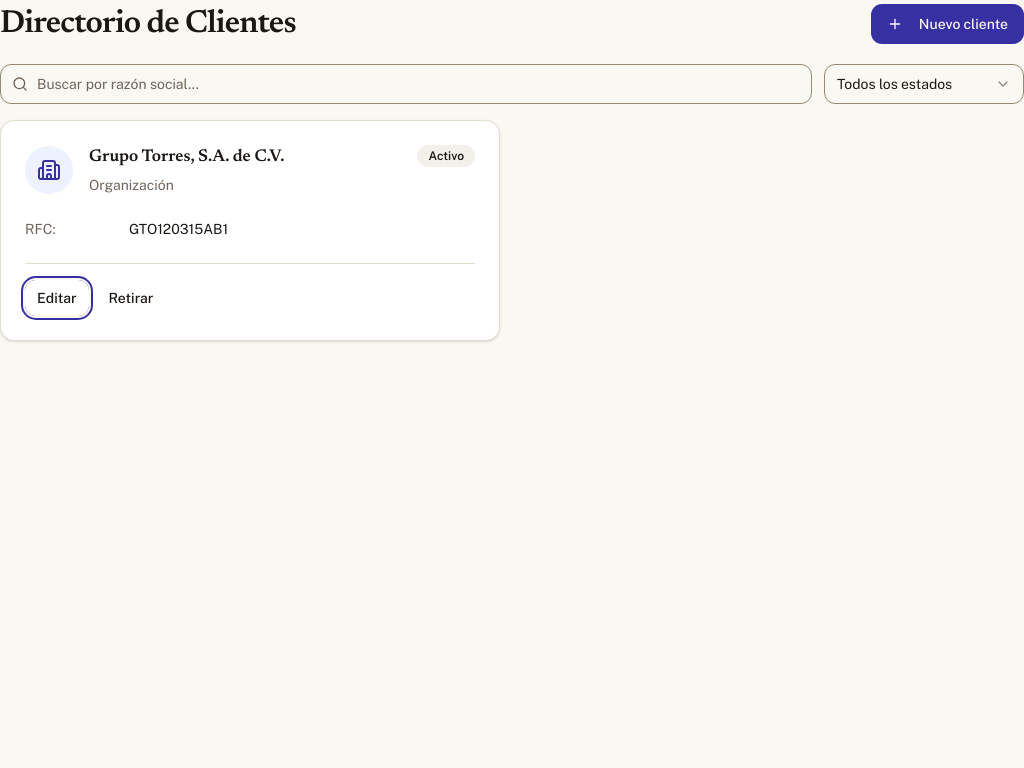
Scenario: dialogs keep and return focus › returns focus to the row control that opened the edit dialog
This screenshot has width=1024, height=768.
Expected: the heading "Grupo Torres, S.A. de C.V." is shown, top-left (89, 145), bottom-right (284, 170)
Click the button with aria-label "editar grupo torres" at (57, 298), box top-left (25, 280), bottom-right (88, 316)
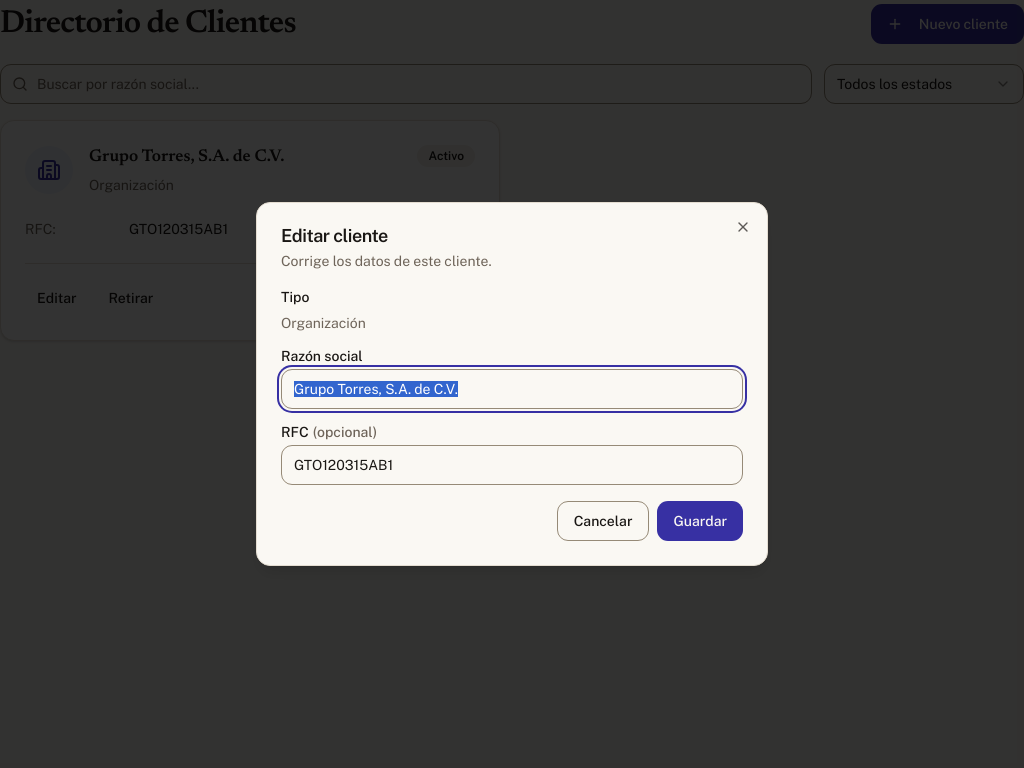
Expected: the dialog is shown, top-left (256, 202), bottom-right (768, 566)
Press Escape
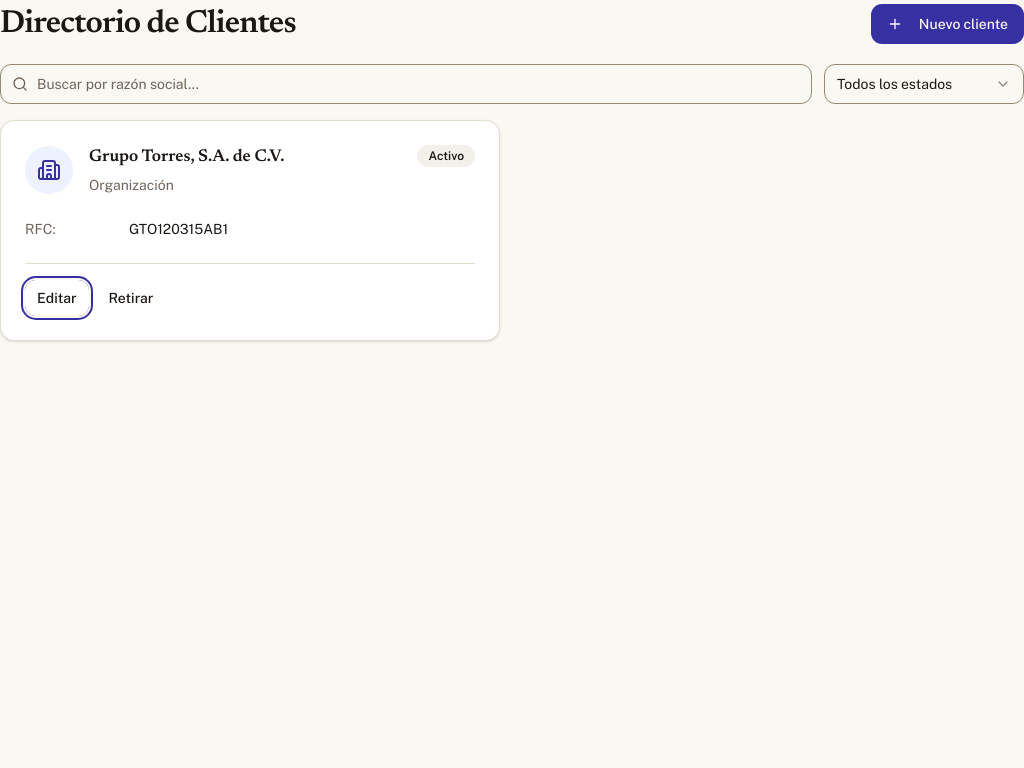
Expected: the dialog is gone
